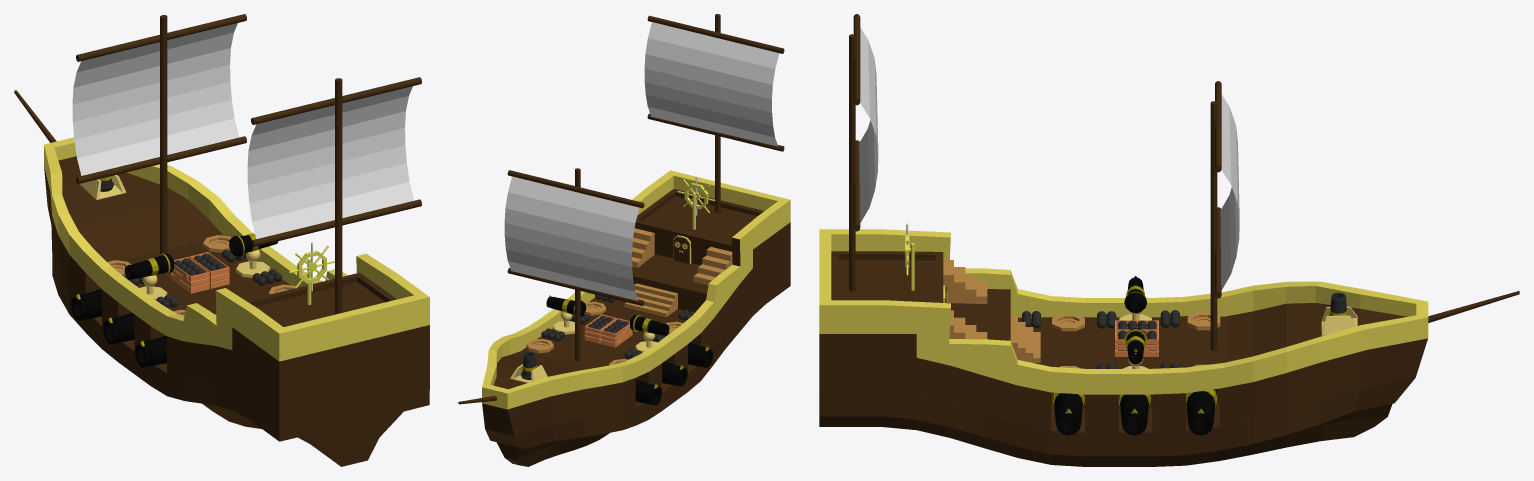
Rendered from Pirate_Ship final.fbx.
The picture shows the model from 3 angles, left to right: view 1: azimuth 30°, elevation 25°; view 2: azimuth 150°, elevation 25°; view 3: azimuth 270°, elevation 25°; orthographic projection. The views are drawn at different scales.
Visible parts, largest first — view 1: Boat, Flag 1, Flag 2, Pole_Bot, Pole_Bot.001, Pole Up 1, Pole Up 2, Pole Up 4, Pole Up 3, canon U 2, canon L 1, canon L 2 (+6 smaller); view 2: Boat, Flag 2, Flag 1, Cube.007, Cube.006, Pole Up 2, Pole Up 4, Cube.005, Pole Up 1, Pole Up 3, Pole_Bot.001, canon L 3 (+9 smaller); view 3: Boat, Flag 1, Flag 2, Pole_Bot, Pole_Bot.001, Cube.006, canon R 3, canon R 1, canon R 2, Cube.007, Mortar_Body.
Boxes of the visible parts, x1=… form: Boat: x1=44, y1=137, x2=429, y2=466; Flag 1: x1=72, y1=23, x2=239, y2=175; Flag 2: x1=247, y1=86, x2=414, y2=238; Pole_Bot: x1=160, y1=15, x2=167, y2=254; Pole_Bot.001: x1=335, y1=78, x2=342, y2=314; Pole Up 1: x1=76, y1=136, x2=246, y2=183; Pole Up 2: x1=76, y1=14, x2=246, y2=61; Pole Up 4: x1=251, y1=77, x2=421, y2=124; Pole Up 3: x1=251, y1=199, x2=421, y2=247; canon U 2: x1=124, y1=253, x2=174, y2=279; canon L 1: x1=135, y1=336, x2=166, y2=367; canon L 2: x1=103, y1=313, x2=134, y2=344; Boat: x1=482, y1=170, x2=790, y2=466; Flag 2: x1=644, y1=22, x2=779, y2=146; Flag 1: x1=504, y1=176, x2=639, y2=300; Cube.007: x1=624, y1=283, x2=677, y2=317; Cube.006: x1=693, y1=247, x2=732, y2=284; Pole Up 2: x1=507, y1=170, x2=644, y2=208; Pole Up 4: x1=647, y1=15, x2=784, y2=53; Cube.005: x1=632, y1=228, x2=654, y2=267; Pole Up 1: x1=507, y1=268, x2=644, y2=305; Pole Up 3: x1=647, y1=113, x2=784, y2=151; Pole_Bot.001: x1=715, y1=14, x2=720, y2=212; canon L 3: x1=635, y1=379, x2=661, y2=405; Boat: x1=819, y1=229, x2=1428, y2=466; Flag 1: x1=1220, y1=94, x2=1239, y2=290; Flag 2: x1=859, y1=28, x2=878, y2=223; Pole_Bot: x1=1210, y1=101, x2=1217, y2=350; Pole_Bot.001: x1=849, y1=34, x2=855, y2=291; Cube.006: x1=943, y1=260, x2=987, y2=303; canon R 3: x1=1186, y1=389, x2=1217, y2=435; canon R 1: x1=1052, y1=392, x2=1084, y2=435; canon R 2: x1=1118, y1=394, x2=1150, y2=435; Cube.007: x1=1010, y1=317, x2=1040, y2=362; Mortar_Body: x1=1321, y1=306, x2=1357, y2=335.
Size of the model in its own units: 1247 by 2611 by 3902.
